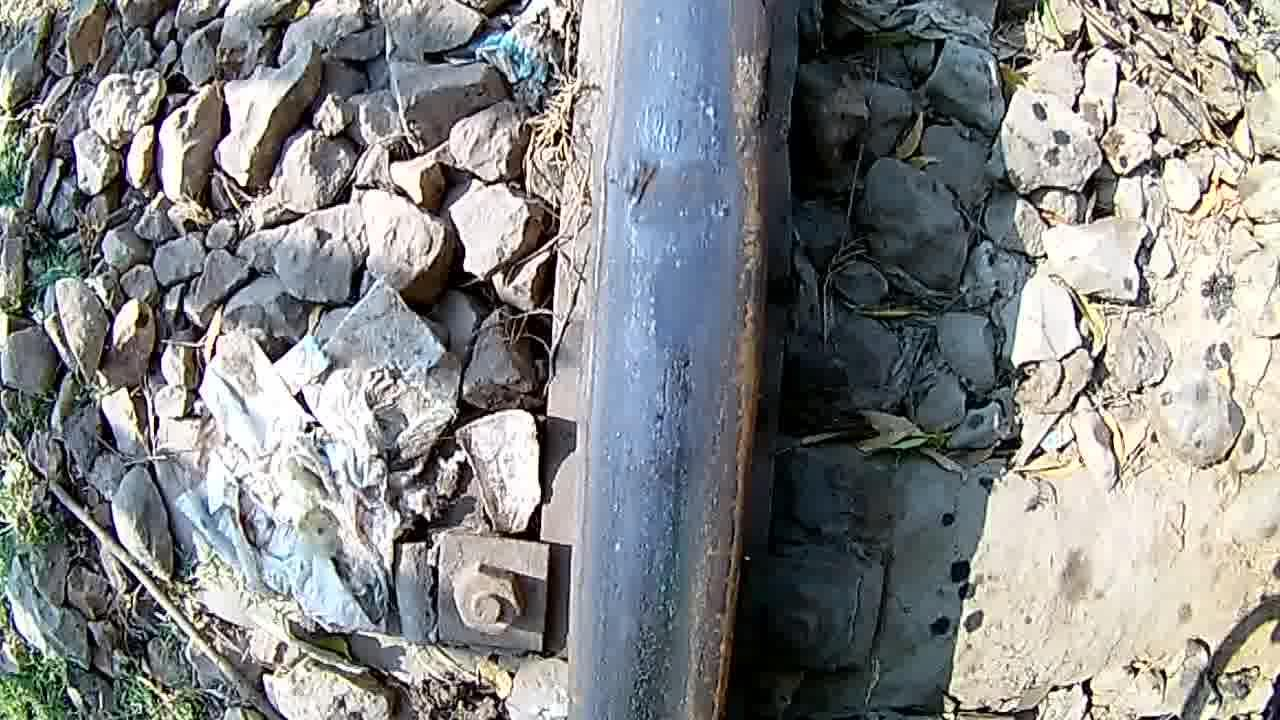bolt_missing: (590, 13, 769, 636)
